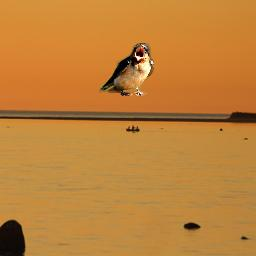Swallow: (99, 43, 154, 96)
